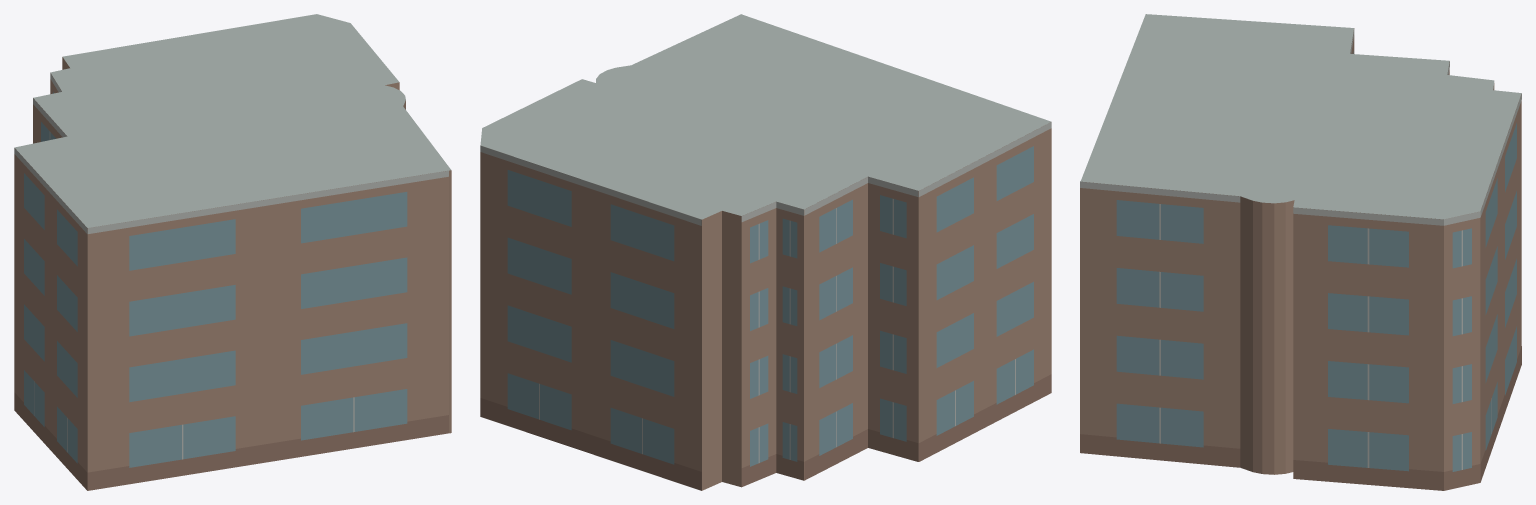
Rendered from survey-upis-32820873.glb.
The picture shows the model from 3 angles, left to right: view 1: azimuth 30°, elevation 25°; view 2: azimuth 150°, elevation 25°; view 3: azimuth 270°, elevation 25°; orthographic projection. The views are drawn at different scales.
Visible parts, largest first — view 1: survey-upis-32820873.tmp; view 2: survey-upis-32820873.tmp; view 3: survey-upis-32820873.tmp.
Part boxes in pixels (box(x1,y1,x2,y2)): survey-upis-32820873.tmp: box(14, 14, 451, 490); survey-upis-32820873.tmp: box(480, 14, 1051, 490); survey-upis-32820873.tmp: box(1080, 14, 1521, 490).
Size of the model in its own units: 16.8 by 10.35 by 15.27.
